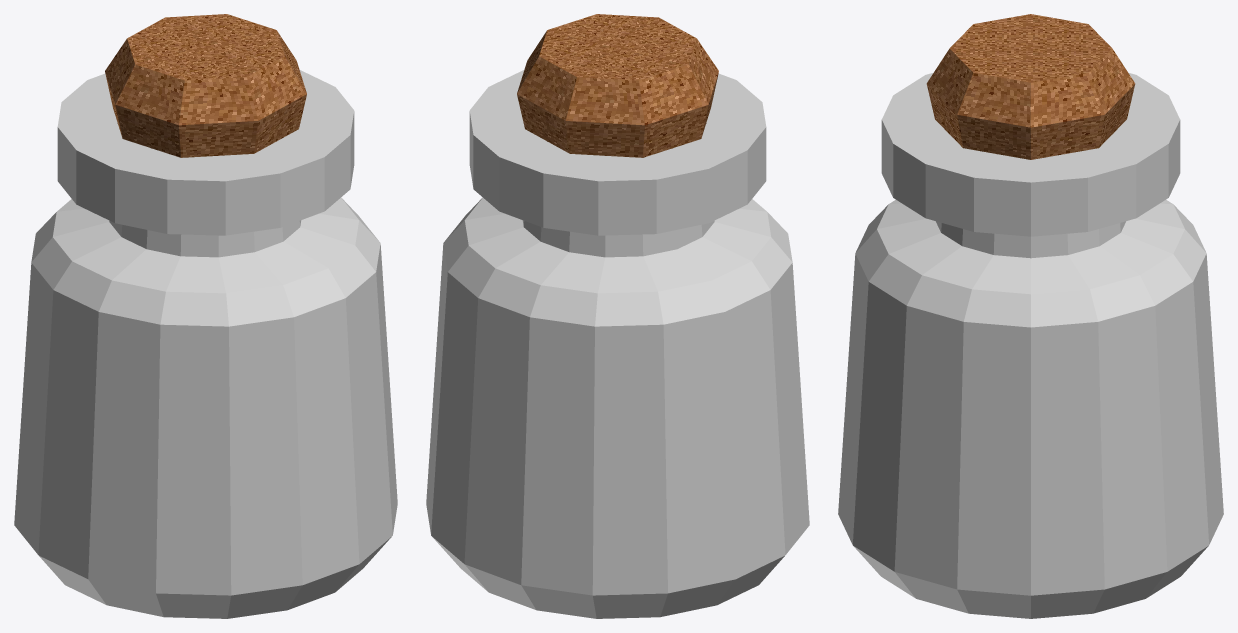
Rendered from bottle.fbx.
The picture shows the model from 3 angles, left to right: view 1: azimuth 30°, elevation 25°; view 2: azimuth 150°, elevation 25°; view 3: azimuth 270°, elevation 25°; orthographic projection.
Visible parts, largest first — view 1: bottleGlass, bottleCork; view 2: bottleGlass, bottleCork; view 3: bottleGlass, bottleCork.
Boxes of the visible parts, <box> form: bottleGlass: <box>14,70,397,618</box>; bottleCork: <box>105,14,306,157</box>; bottleGlass: <box>426,70,809,618</box>; bottleCork: <box>517,14,718,157</box>; bottleGlass: <box>838,72,1223,618</box>; bottleCork: <box>926,14,1135,159</box>.
Size of the model in its own units: 329 by 498 by 329.
